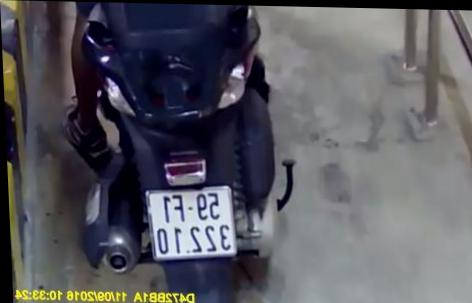License_Plate: (139, 178, 243, 267)
